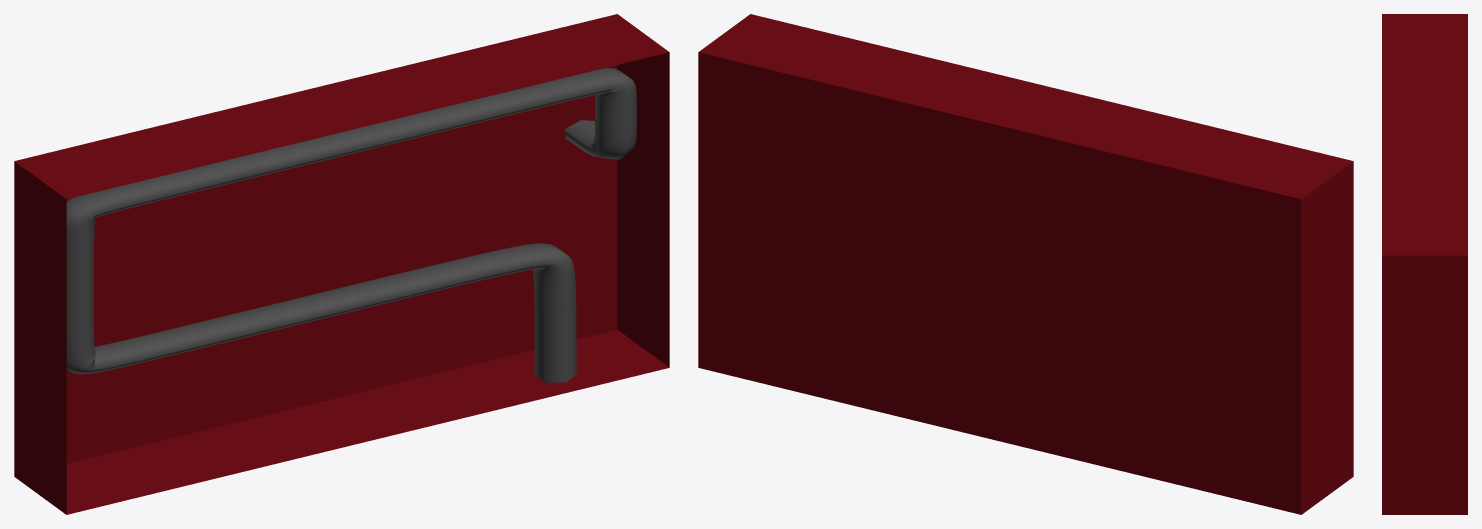
The model's file is InsideWall.fbx.
3 renders of one model, left to right at view 1: azimuth 30°, elevation 25°; view 2: azimuth 150°, elevation 25°; view 3: azimuth 270°, elevation 25°, orthographic. The views are drawn at different scales.
Parts seen in each view (by area): view 1: Cube, NurbsPath; view 2: Cube; view 3: Cube.
Boxes of the visible parts, box(x1,y1,x2,y2) form: Cube: box(14, 14, 669, 514); NurbsPath: box(66, 68, 636, 382); Cube: box(698, 14, 1353, 514); Cube: box(1382, 14, 1467, 514).
Bounding box in the file's own units: 200 × 100 × 30.
